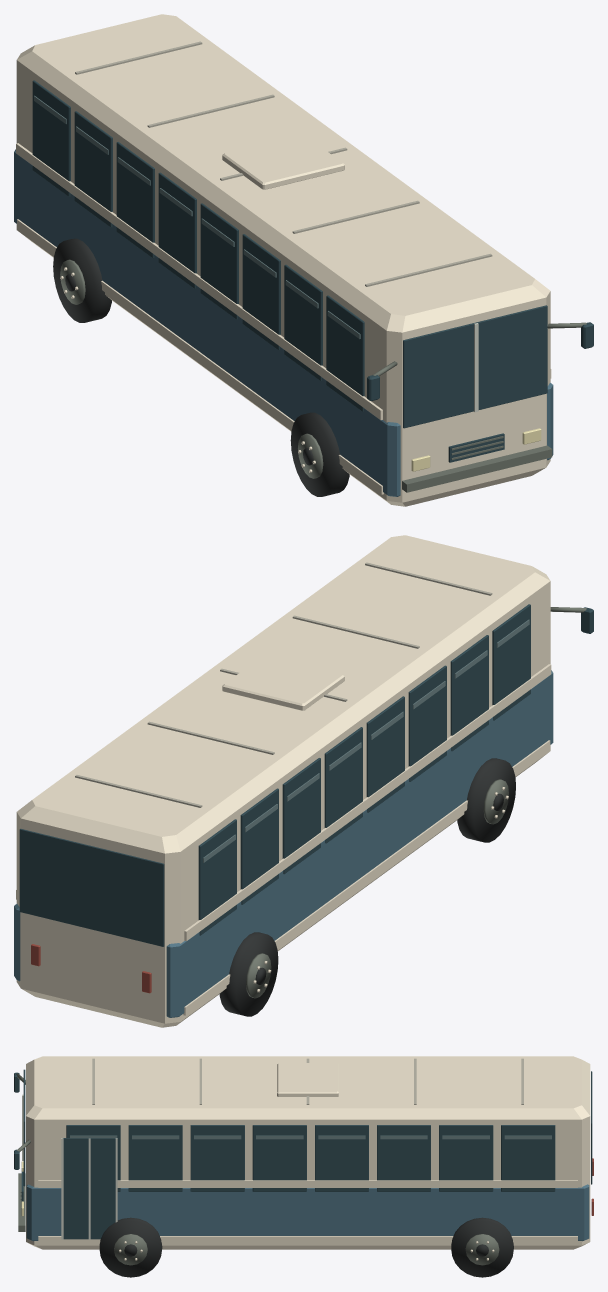
The model's file is bus.glb.
The picture shows the model from 3 angles, top to bottom: view 1: azimuth 30°, elevation 25°; view 2: azimuth 150°, elevation 25°; view 3: azimuth 270°, elevation 25°; orthographic projection. The views are drawn at different scales.
Parts seen in each view (by area): view 1: bus-body; view 2: bus-body; view 3: bus-body.
Part boxes in pixels (x1,y1,x2,y2): bus-body: (14,14,593,506); bus-body: (14,535,593,1027); bus-body: (14,1056,593,1277).
Bounding box in the file's own units: 3.4 × 3.27 × 10.28.
